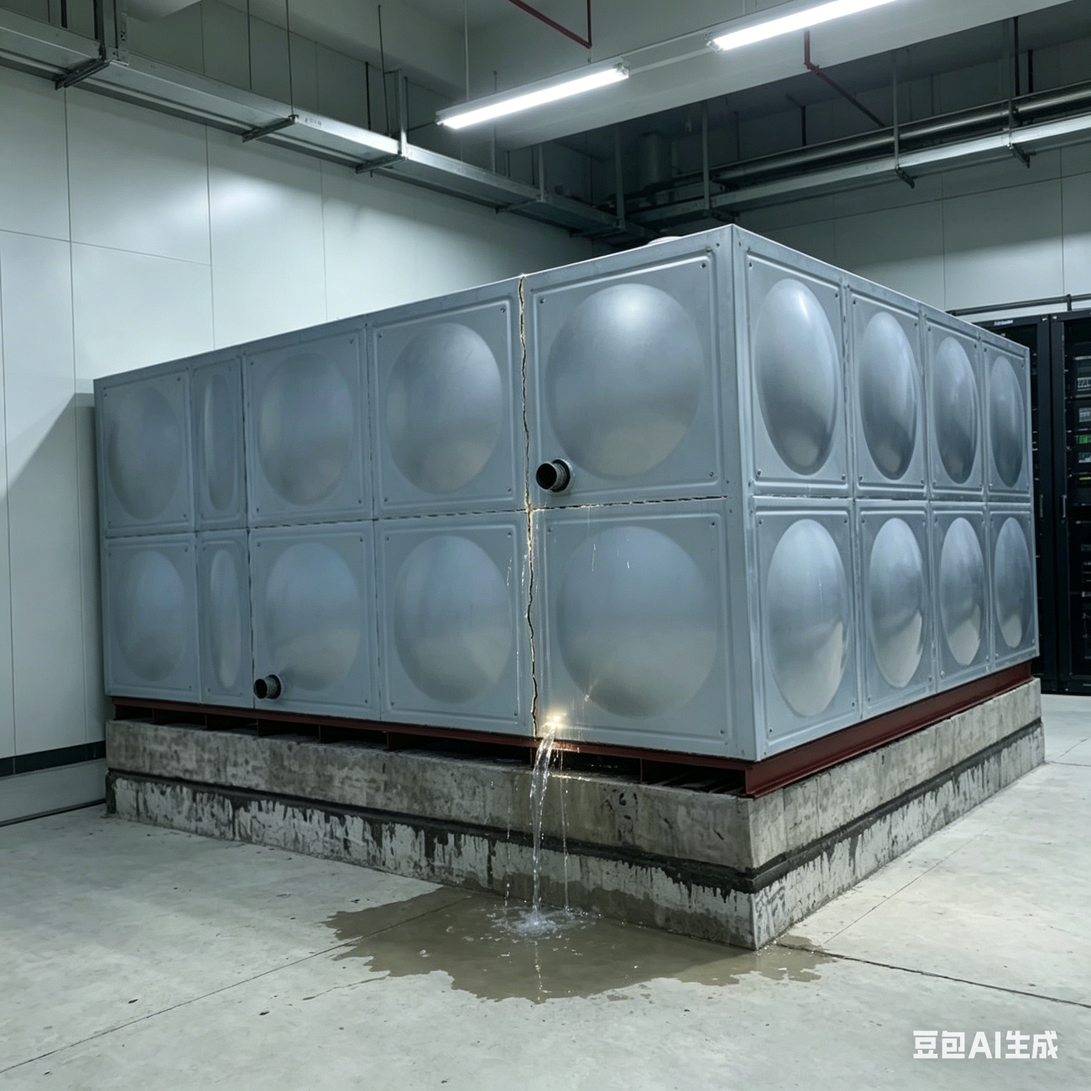Leakage: (507, 481, 590, 995), (602, 913, 834, 999), (335, 898, 507, 1001)
